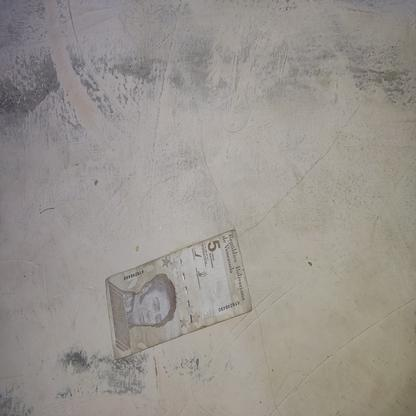five-front-vef: (104, 229, 252, 360)
